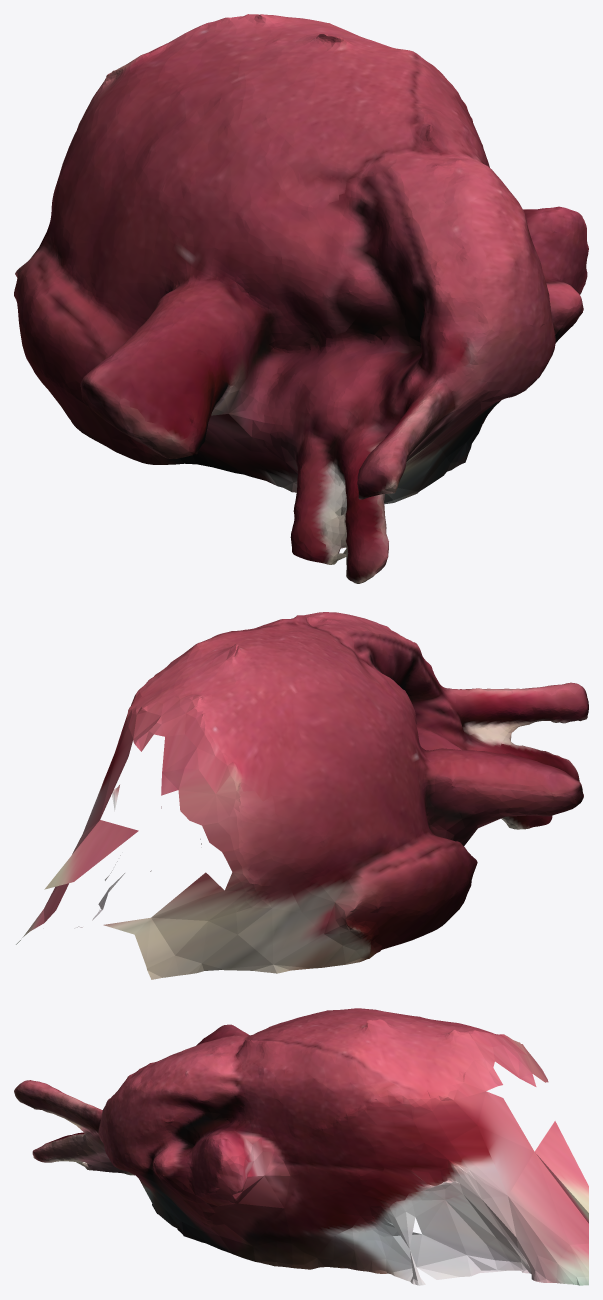
Rendered from heart.glb.
3 views of the same model, one above another, from view 1: azimuth 30°, elevation 25°; view 2: azimuth 150°, elevation 25°; view 3: azimuth 270°, elevation 25° (orthographic). The views are drawn at different scales.
Parts seen in each view (by area): view 1: mesh; view 2: mesh; view 3: mesh.
Boxes of the visible parts, <box> form: mesh: <box>14,14,588,583</box>; mesh: <box>16,612,588,979</box>; mesh: <box>14,1008,588,1285</box>.
Size of the model in its own units: 0.1464 by 0.0908 by 0.2161.
1 material, 1 textured.
